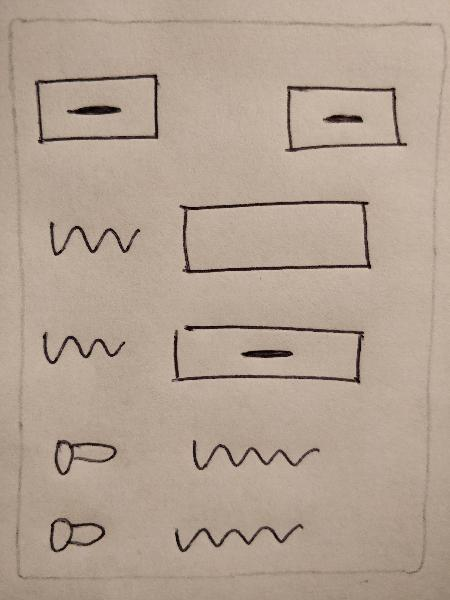button: (165, 319, 370, 392), (28, 69, 177, 158), (277, 78, 414, 161)
switch: (43, 429, 123, 483), (43, 508, 113, 558)
text: (179, 428, 327, 478), (163, 515, 309, 560), (41, 210, 145, 272), (37, 320, 134, 371)
text_input: (172, 194, 382, 281)
